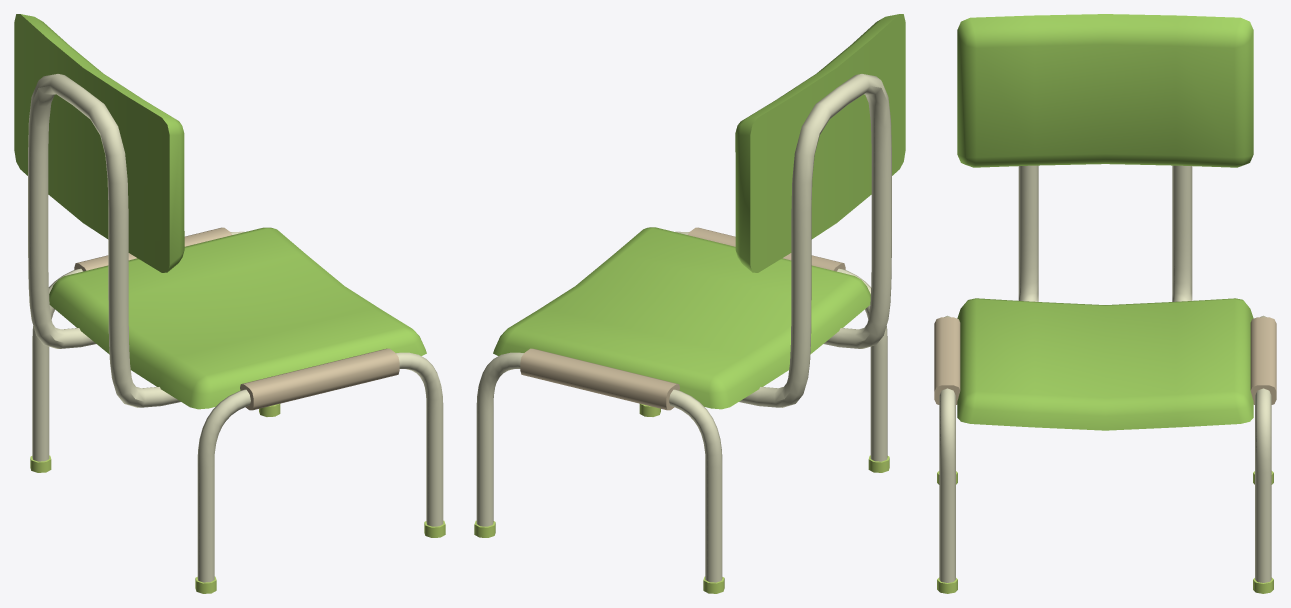
File: silla.fbx
3 views of the same model, side by side, from view 1: azimuth 30°, elevation 25°; view 2: azimuth 150°, elevation 25°; view 3: azimuth 270°, elevation 25° (orthographic). The views are drawn at different scales.
Parts seen in each view (by area): view 1: silla; view 2: silla; view 3: silla.
Boxes of the visible parts, bbox=[...] form: silla: bbox=[14, 14, 445, 593]; silla: bbox=[474, 14, 905, 593]; silla: bbox=[934, 14, 1276, 593].
Bounding box in the file's own units: 139 × 214 × 147.
